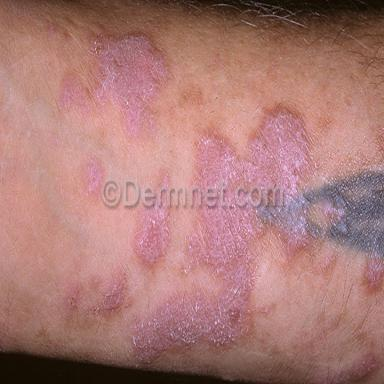lichen: (133, 195, 316, 361), (59, 35, 168, 137), (198, 109, 309, 196), (133, 206, 170, 263), (87, 272, 127, 315), (331, 353, 379, 383), (85, 157, 103, 196), (365, 256, 384, 291)
